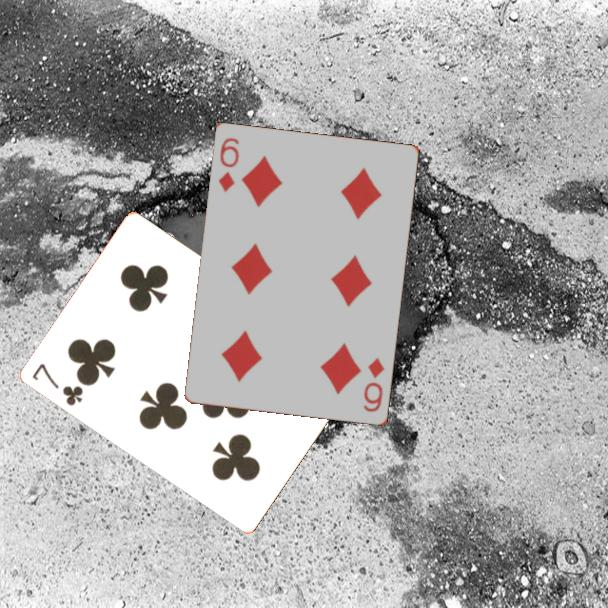c07: (29, 360, 87, 409)
d06: (360, 354, 388, 415), (215, 134, 242, 196)
